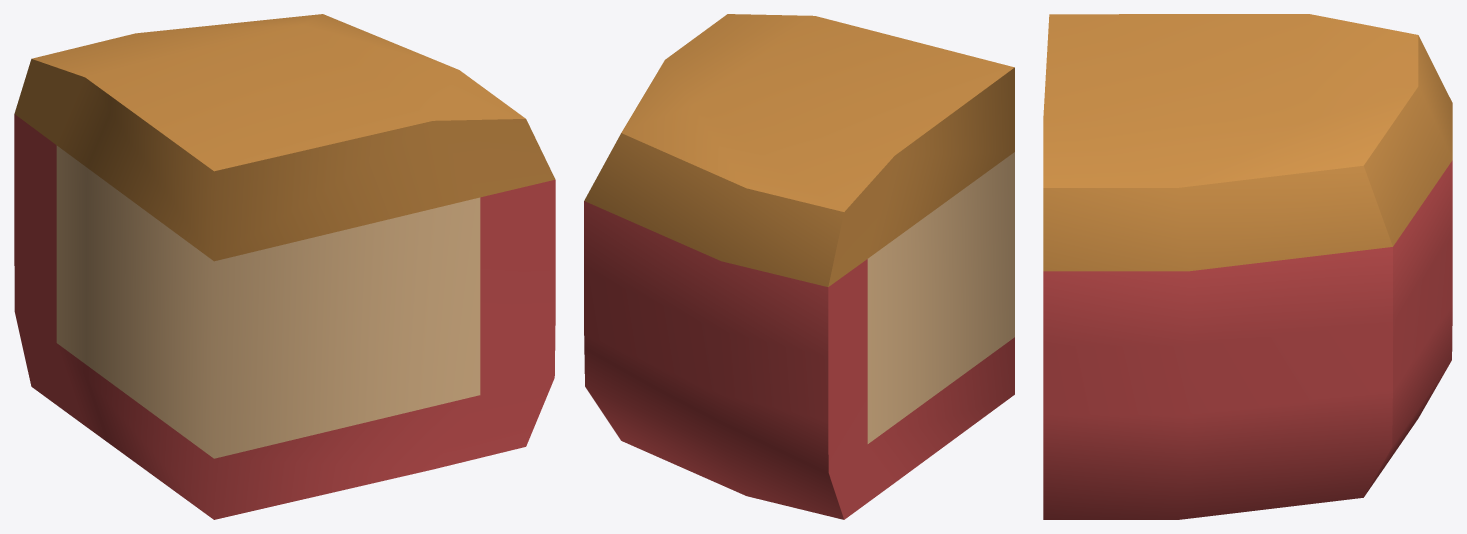
File: mooncake_quarter.fbx
3 views of the same model, side by side, from view 1: azimuth 30°, elevation 25°; view 2: azimuth 150°, elevation 25°; view 3: azimuth 270°, elevation 25° (orthographic). The views are drawn at different scales.
Parts seen in each view (by area): view 1: mooncake_quater; view 2: mooncake_quater; view 3: mooncake_quater.
Boxes of the visible parts, bbox=[...] form: mooncake_quater: bbox=[14, 14, 555, 519]; mooncake_quater: bbox=[584, 14, 1014, 519]; mooncake_quater: bbox=[1043, 14, 1452, 519].
Bounding box in the file's own units: 0.5021 × 0.4937 × 0.519.
